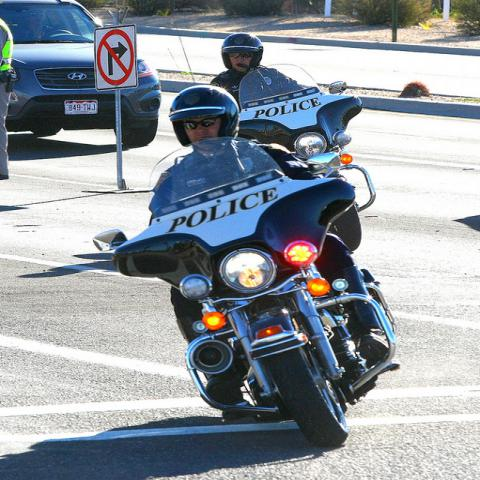car: (0, 1, 164, 150)
motorcycle: (93, 142, 397, 450), (240, 64, 388, 251)
